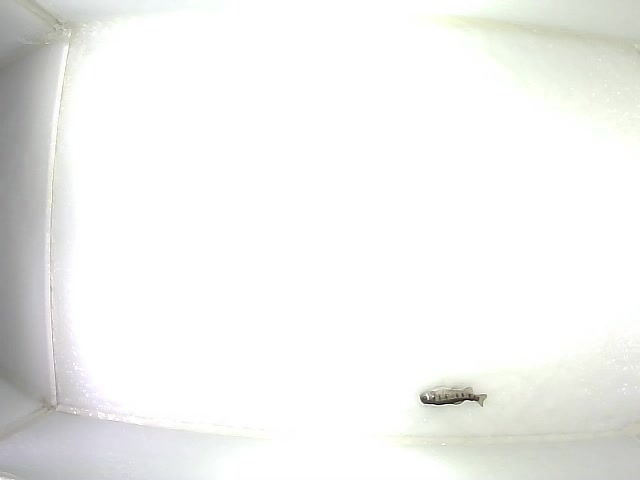fish: (418, 383, 488, 409)
